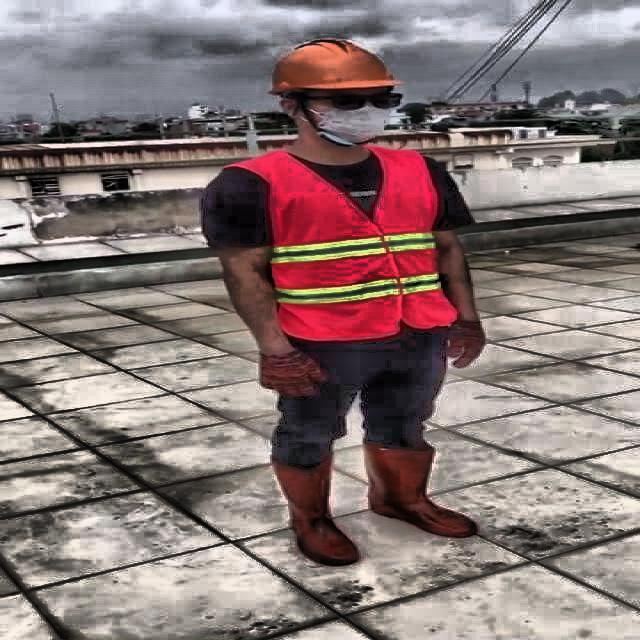safety_jacket: (263, 152, 453, 339)
